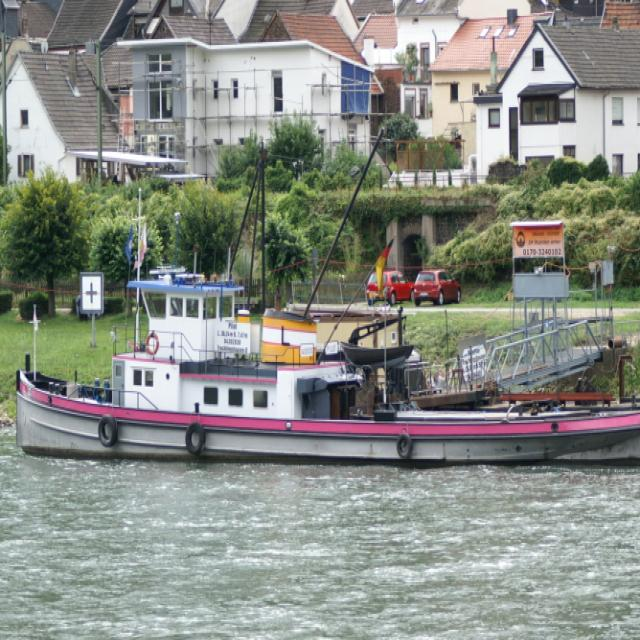tugboat: (11, 184, 640, 483)
